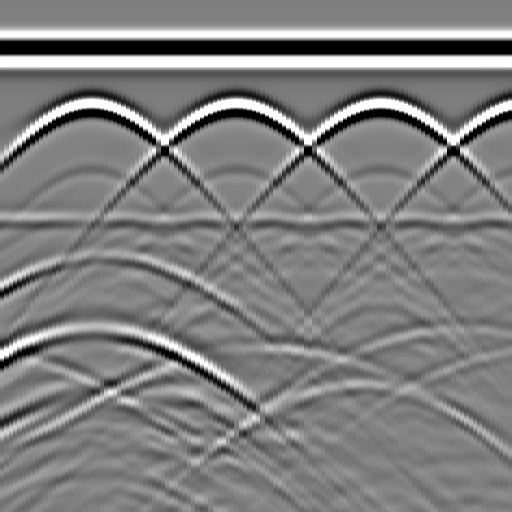grout_surface: (1, 207, 512, 237)
rebar: (69, 87, 109, 127), (214, 87, 254, 127), (358, 87, 398, 127), (502, 87, 512, 127)
rock_surface: (1, 326, 511, 405)
water_void: (66, 234, 126, 274)
